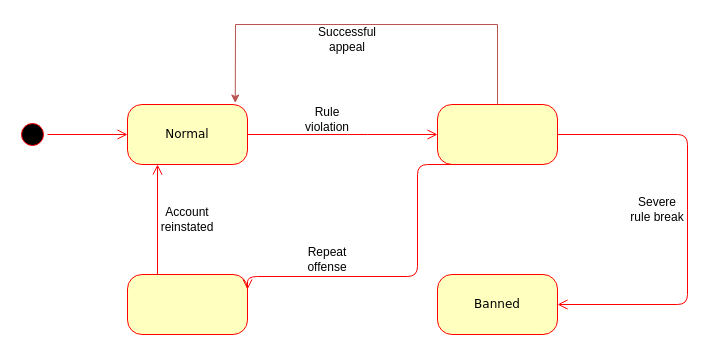
Some shapes in this 715 by 352 pixel diagram are drawn without their labels. Here are the shapes that lost their labels. From the top down, the centre of each, then its label:
At [497,134]: "Warning issued".
At [187,304]: "Suspended".
